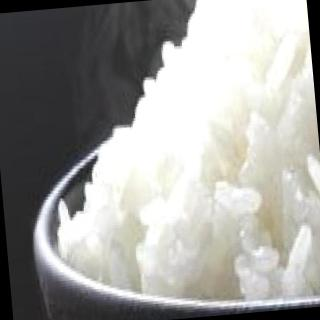Nasi: (36, 1, 320, 320)
